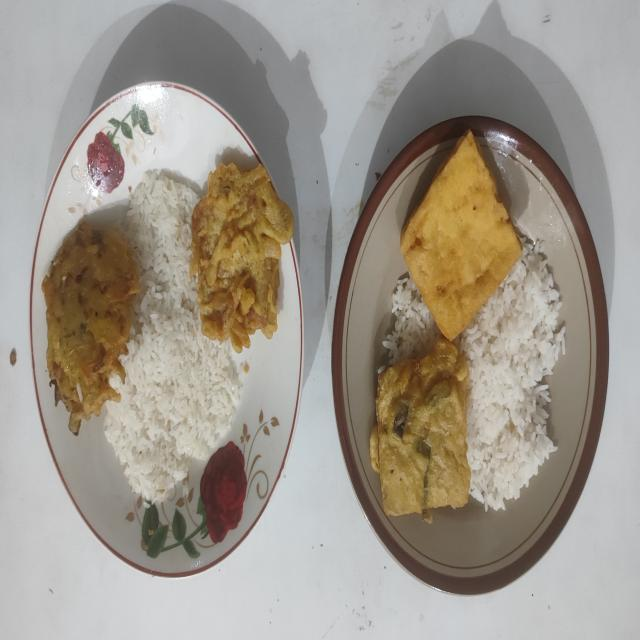nasi_putih: (105, 171, 242, 502), (460, 236, 566, 510), (383, 280, 437, 364)
tahu_goreng: (401, 130, 522, 340)
